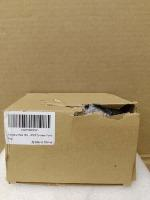damaged package: (48, 98, 140, 124)
undamaged: (0, 84, 143, 191)
